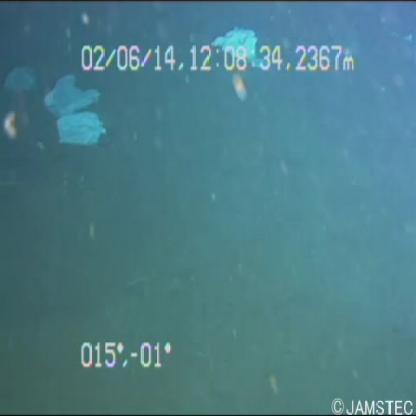Rác: (34, 63, 112, 152), (204, 20, 258, 70)
